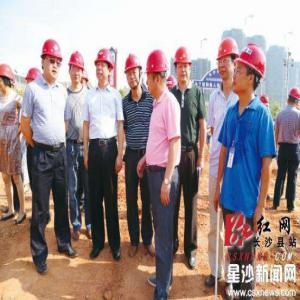red: (231, 43, 265, 101), (146, 48, 171, 100), (39, 36, 63, 84), (216, 36, 238, 81), (172, 44, 193, 86), (95, 48, 115, 90), (124, 52, 143, 93), (68, 50, 86, 87), (2, 61, 15, 95), (287, 86, 300, 112)
